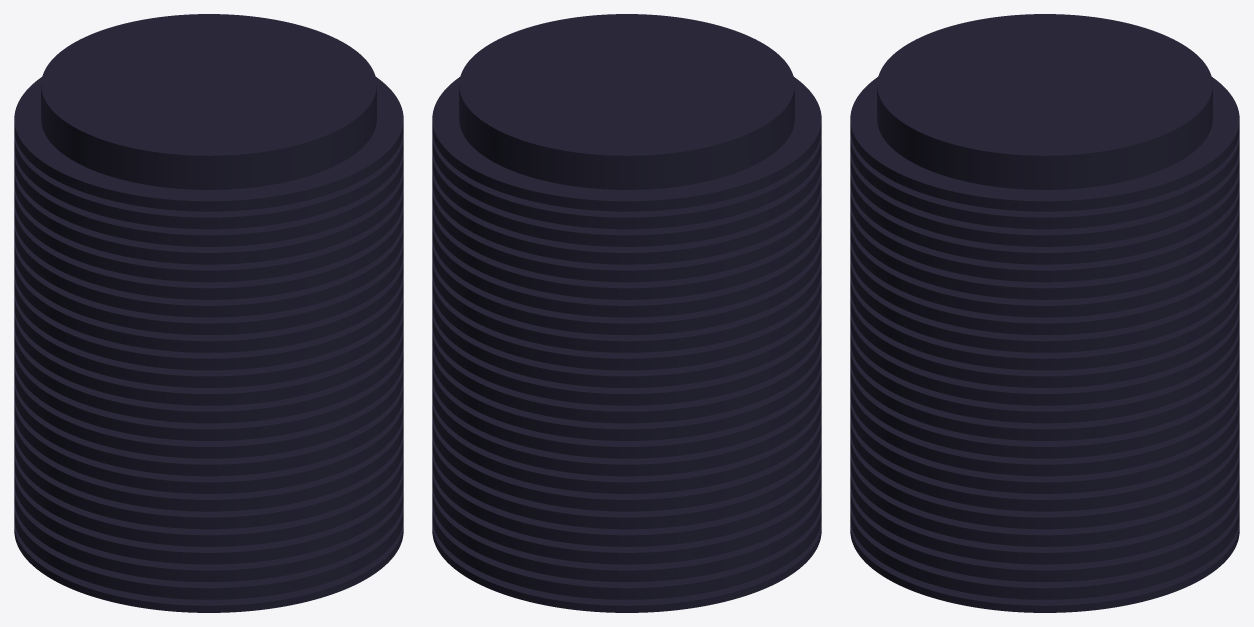
File: laser.dae
3 renders of one model, left to right at view 1: azimuth 30°, elevation 25°; view 2: azimuth 150°, elevation 25°; view 3: azimuth 270°, elevation 25°, orthographic.
Parts seen in each view (by area): view 1: Laser; view 2: Laser; view 3: Laser.
Part boxes in pixels (left/top/right/bottom): Laser: left=14, top=14, right=403, bottom=612; Laser: left=432, top=14, right=821, bottom=612; Laser: left=850, top=14, right=1239, bottom=612.
Size of the model in its own units: 0.06 by 0.06 by 0.0758.
Materials: 1 (1 with a texture image).
